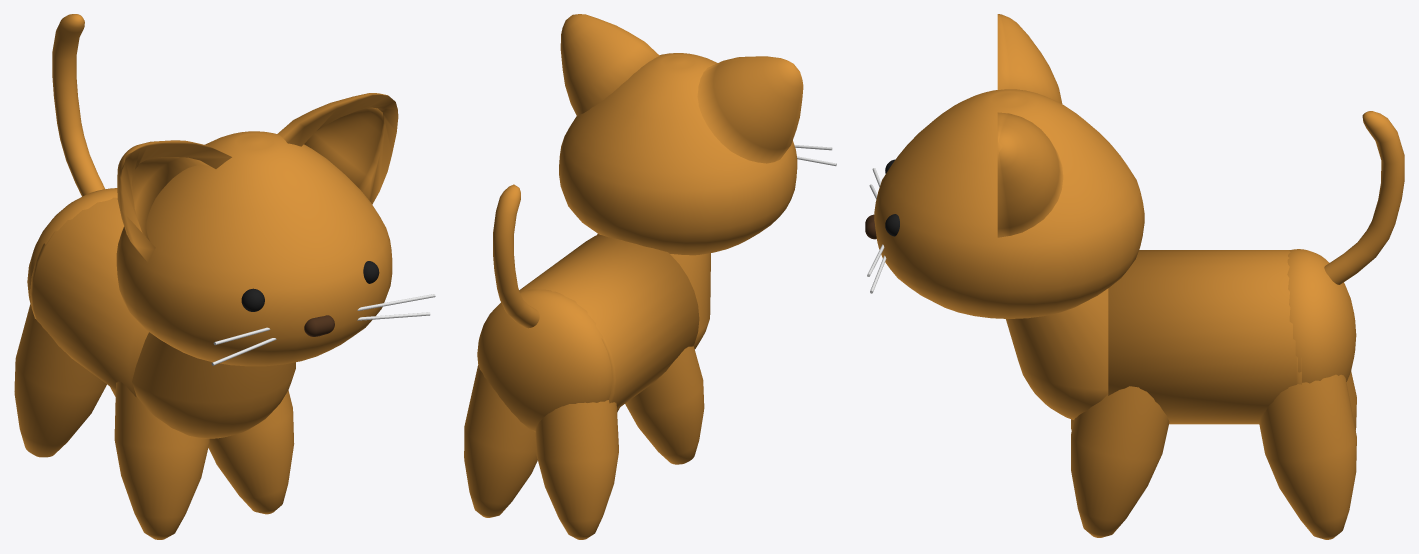
Rendered from pets.fbx.
3 views of the same model, side by side, from view 1: azimuth 30°, elevation 25°; view 2: azimuth 150°, elevation 25°; view 3: azimuth 270°, elevation 25° (orthographic). The views are drawn at different scales.
Parts seen in each view (by area): view 1: Sphere.003, Face, Circle.002, Circle.000, Cylinder, Sphere.002, Cylinder.001; view 2: Sphere.003, Face, Circle.000, Circle.002; view 3: Sphere.003, Face, Circle.002, Circle.000.
Part boxes in pixels (bbox=[...]): Sphere.003: bbox=[14, 14, 295, 539]; Face: bbox=[116, 131, 392, 366]; Circle.002: bbox=[277, 93, 398, 204]; Circle.000: bbox=[117, 140, 231, 262]; Cylinder: bbox=[357, 294, 435, 320]; Sphere.002: bbox=[304, 315, 334, 336]; Cylinder.001: bbox=[211, 327, 276, 365]; Sphere.003: bbox=[464, 184, 710, 539]; Face: bbox=[559, 53, 797, 255]; Circle.000: bbox=[697, 56, 803, 163]; Circle.002: bbox=[560, 14, 659, 116]; Sphere.003: bbox=[1006, 111, 1404, 539]; Face: bbox=[874, 89, 1144, 318]; Circle.002: bbox=[997, 112, 1063, 237]; Circle.000: bbox=[997, 14, 1062, 103].
Bounding box in the file's own units: 192 × 298 × 331.
